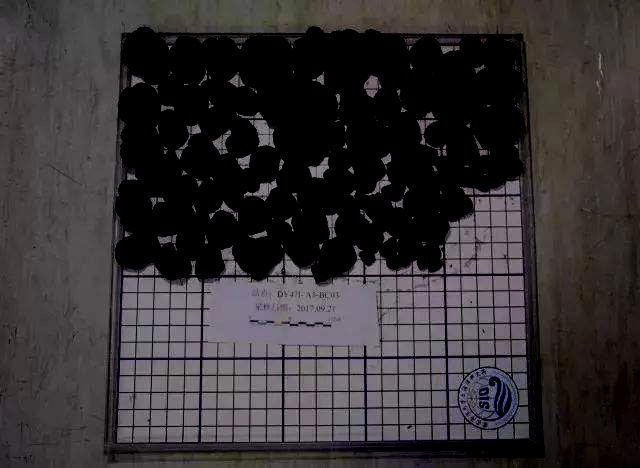halobolite: (239, 30, 292, 88), (269, 122, 344, 162), (122, 27, 174, 82), (324, 31, 367, 95), (404, 183, 476, 220), (473, 100, 526, 145), (230, 237, 284, 279), (288, 23, 327, 81), (115, 179, 154, 235), (373, 32, 411, 89), (315, 237, 361, 281), (291, 83, 340, 123), (120, 121, 161, 168), (115, 230, 160, 272), (346, 118, 390, 159), (180, 131, 218, 178), (388, 158, 439, 193), (213, 156, 248, 207), (477, 66, 525, 103), (119, 79, 157, 125), (256, 81, 296, 124), (201, 38, 240, 82), (436, 52, 475, 96), (170, 39, 208, 84), (429, 88, 476, 124), (139, 156, 182, 195), (398, 73, 441, 111), (479, 34, 522, 72), (489, 139, 527, 180), (436, 155, 484, 187), (337, 87, 376, 126), (408, 209, 452, 243), (260, 185, 302, 219), (225, 114, 258, 157), (156, 241, 191, 281), (353, 153, 385, 196), (397, 138, 442, 167), (204, 77, 239, 114), (406, 34, 440, 72), (444, 123, 478, 161), (390, 113, 420, 156), (294, 179, 331, 213), (154, 110, 188, 147), (154, 202, 193, 234), (177, 85, 207, 126), (335, 211, 370, 246), (274, 161, 315, 190), (206, 209, 238, 246), (291, 210, 329, 241), (285, 230, 317, 266), (238, 195, 268, 233), (358, 29, 387, 68), (474, 155, 505, 191), (199, 106, 233, 138), (414, 242, 447, 274), (251, 145, 283, 178), (164, 175, 197, 206), (154, 73, 182, 109), (360, 196, 393, 226), (324, 185, 359, 213), (194, 179, 222, 214), (373, 89, 401, 123), (323, 166, 357, 193), (197, 248, 224, 282), (231, 86, 260, 117), (262, 217, 293, 244), (387, 205, 413, 237), (178, 225, 203, 258), (395, 235, 423, 263), (460, 37, 483, 69), (363, 224, 388, 250), (328, 146, 353, 171), (380, 180, 406, 204), (241, 167, 264, 193), (425, 121, 449, 145), (376, 235, 399, 258), (355, 247, 380, 267), (385, 254, 412, 272)
